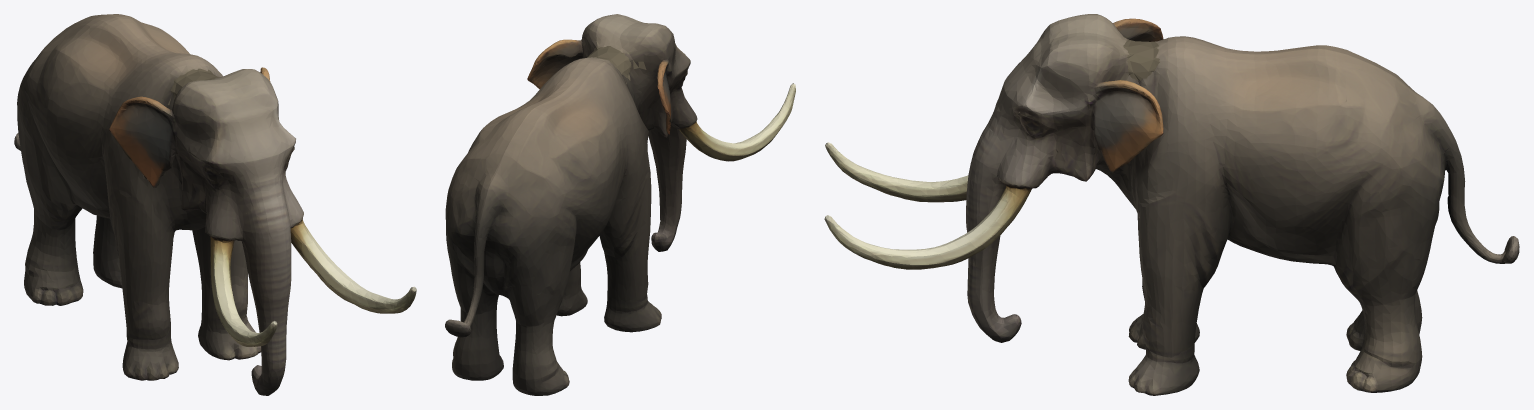
3 views of the same model, side by side, from view 1: azimuth 30°, elevation 25°; view 2: azimuth 150°, elevation 25°; view 3: azimuth 270°, elevation 25° (orthographic). The views are drawn at different scales.
Parts seen in each view (by area): view 1: world; view 2: world; view 3: world.
Part boxes in pixels (x1,y1,x2,y2): world: (14, 14, 416, 395); world: (445, 14, 795, 395); world: (824, 14, 1519, 395).
Size of the model in its own units: 1.81 by 3.28 by 6.2.
1 material, 1 textured.
